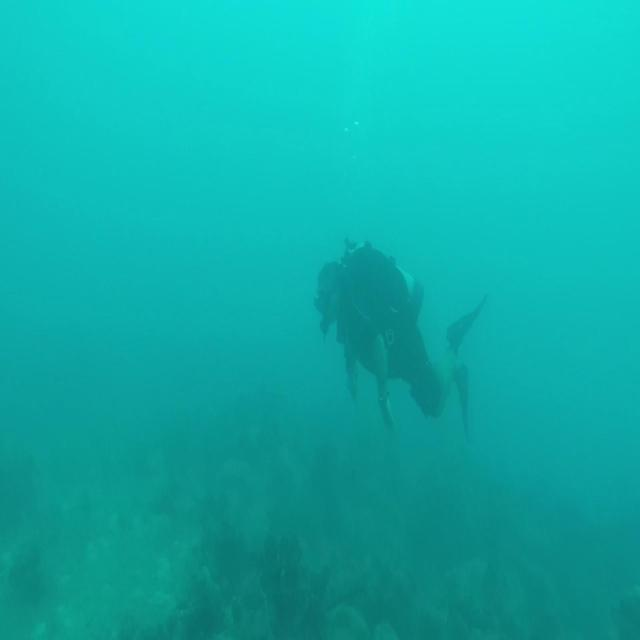human: (314, 236, 487, 442)
